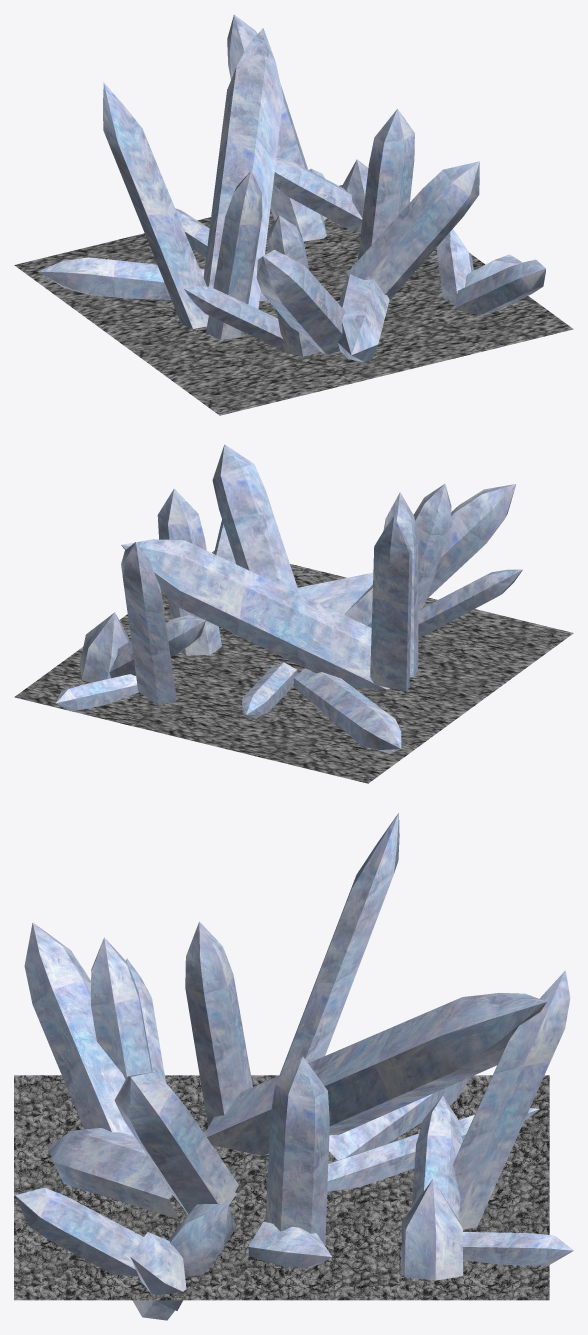
Rendered from Earth3_crystals.fbx.
3 renders of one model, top to bottom at view 1: azimuth 30°, elevation 25°; view 2: azimuth 150°, elevation 25°; view 3: azimuth 270°, elevation 25°, orthographic. The views are drawn at different scales.
Parts seen in each view (by area): view 1: pPlane1, crystals2Main, crystals3Main1, crystals3Main, crystals4Main, crystals5Main; view 2: pPlane1, crystals2Main, crystals5Main, crystals4Main, crystals3Main1, crystals3Main; view 3: pPlane1, crystals2Main, crystals3Main, crystals5Main, crystals4Main, crystals3Main1.
Boxes of the visible parts, x1,y1,x2,y2 form: pPlane1: (14,185,573,415); crystals2Main: (37,28,283,339); crystals3Main1: (338,161,479,362); crystals3Main: (357,108,545,315); crystals4Main: (184,215,345,356); crystals5Main: (227,14,368,241); pPlane1: (14,550,573,783); crystals2Main: (121,492,418,753); crystals5Main: (55,542,205,711); crystals4Main: (344,484,522,638); crystals3Main1: (212,444,373,615); crystals3Main: (157,488,235,655); pPlane1: (14,1075,549,1300); crystals2Main: (185,813,546,1191); crystals3Main: (15,1056,331,1320); crystals5Main: (401,970,573,1280); crystals4Main: (24,922,165,1136); crystals3Main1: (47,1071,238,1219).
Bounding box in the file's own units: 3.99 × 2.71 × 4.13.
2 materials, 2 textured.
